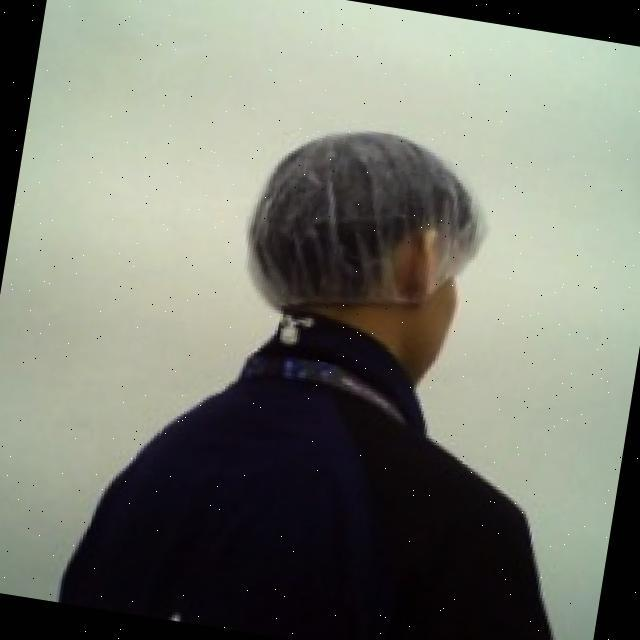gloves: (235, 108, 504, 358)
